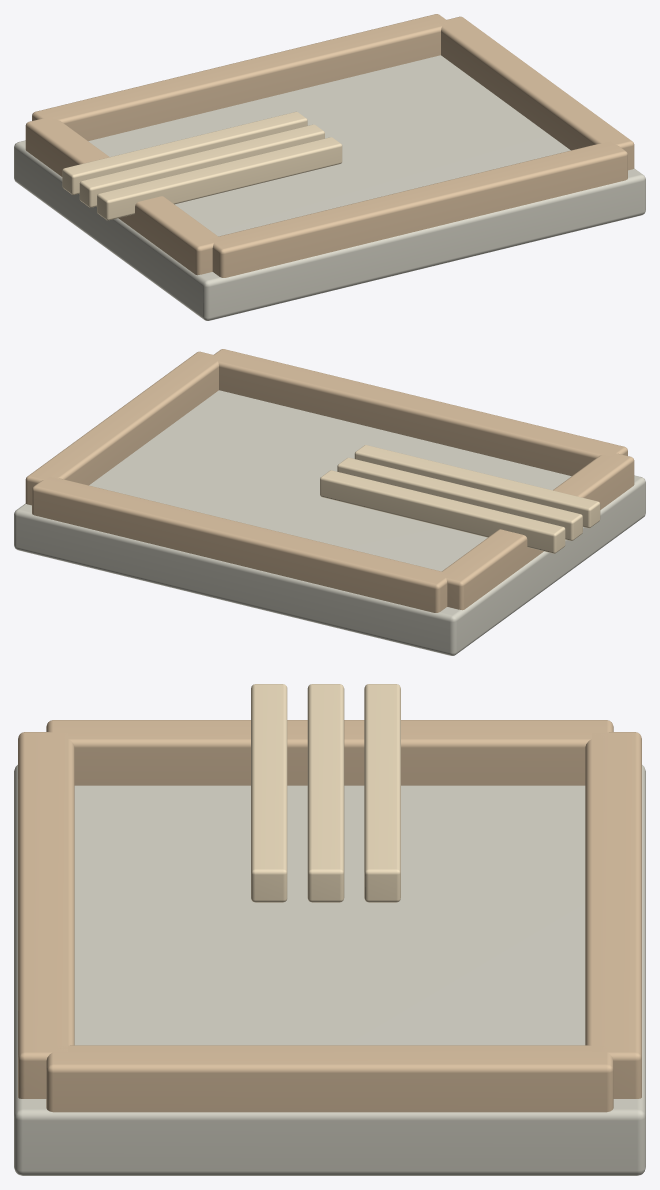
File: chicken-coop-foundation.glb
The picture shows the model from 3 angles, top to bottom: view 1: azimuth 30°, elevation 25°; view 2: azimuth 150°, elevation 25°; view 3: azimuth 270°, elevation 25°; orthographic projection. The views are drawn at different scales.
Visible parts, largest first — view 1: Rounded stone footing.024, Sill beam.096, Sill beam.097, Sill beam.099, Staged lumber.018, Sill beam.098, Staged lumber.019, Staged lumber.020; view 2: Rounded stone footing.024, Sill beam.097, Sill beam.096, Sill beam.099, Staged lumber.020, Sill beam.098, Staged lumber.018, Staged lumber.019; view 3: Rounded stone footing.024, Sill beam.099, Sill beam.098, Sill beam.096, Sill beam.097, Staged lumber.019, Staged lumber.020, Staged lumber.018.
Boxes of the visible parts, box(x1,y1,x2,y2) form: Rounded stone footing.024: box(14, 55, 645, 320); Sill beam.096: box(210, 141, 627, 277); Sill beam.097: box(32, 14, 449, 141); Sill beam.099: box(438, 16, 634, 170); Staged lumber.018: box(97, 137, 342, 220); Sill beam.098: box(25, 117, 217, 275); Staged lumber.019: box(79, 124, 324, 207); Staged lumber.020: box(62, 111, 307, 194); Rounded stone footing.024: box(14, 390, 645, 655); Sill beam.097: box(32, 476, 449, 612); Sill beam.096: box(210, 349, 627, 476); Sill beam.099: box(25, 351, 221, 505); Staged lumber.020: box(320, 470, 565, 553); Sill beam.098: box(442, 452, 634, 610); Staged lumber.018: box(354, 445, 600, 528); Staged lumber.019: box(337, 457, 582, 540); Rounded stone footing.024: box(14, 765, 645, 1175); Sill beam.099: box(46, 1045, 613, 1112); Sill beam.098: box(46, 720, 613, 785); Sill beam.096: box(18, 732, 74, 1098); Sill beam.097: box(585, 732, 641, 1098); Staged lumber.019: box(307, 684, 344, 902); Staged lumber.020: box(364, 684, 400, 902); Staged lumber.018: box(251, 684, 287, 902).
Size of the model in its own units: 2.18 by 0.335 by 1.56.
